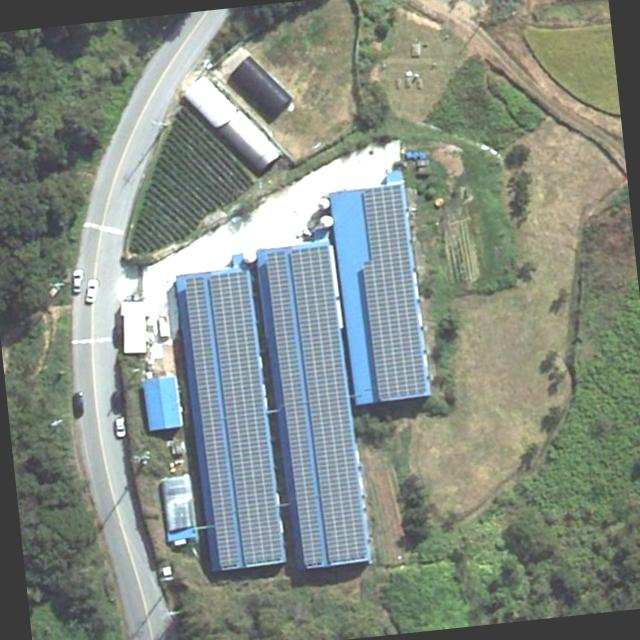solar: (286, 243, 371, 564), (206, 269, 284, 569), (264, 248, 326, 566), (183, 274, 240, 572), (354, 180, 429, 402)
